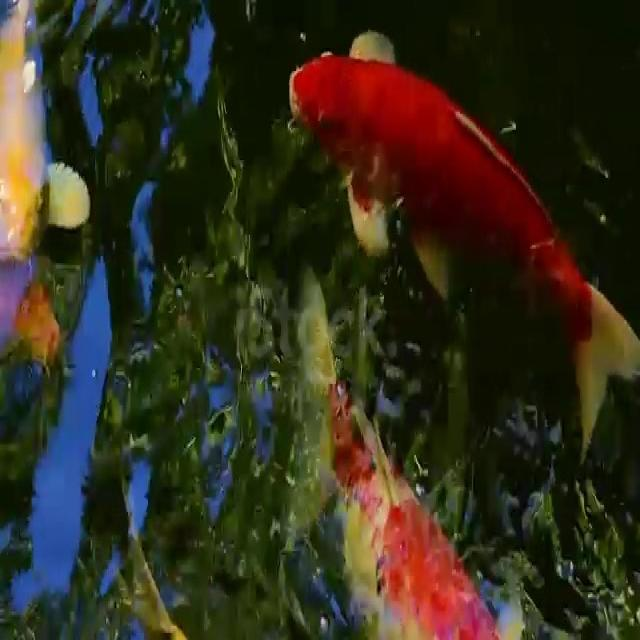fish: (274, 20, 640, 402), (260, 282, 527, 640), (2, 0, 99, 292)
